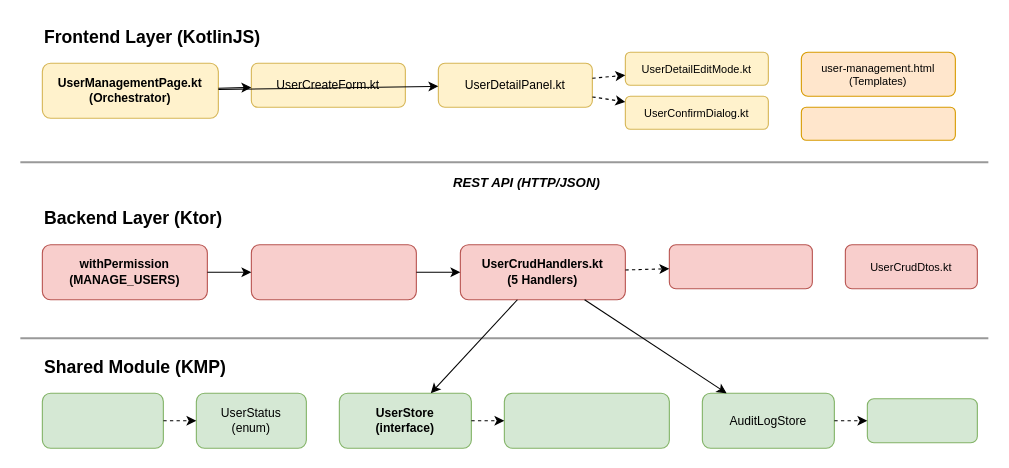
This 1009x468 diagram has some shape labels left out. Each missing label, with the centre of its shape:
"AuditLogEntry" belongs at (921,420).
"CSS Files" belongs at (877,123).
"InMemoryUserStore (implementation)" belongs at (586,420).
"User (data class)" belongs at (102,420).
"UserRoutes.kt (Route Registration)" belongs at (333,272).
"ValidationService" belongs at (740,266).
